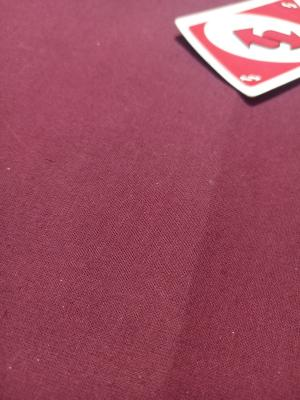reverse: (230, 16, 300, 58), (235, 69, 268, 93)
